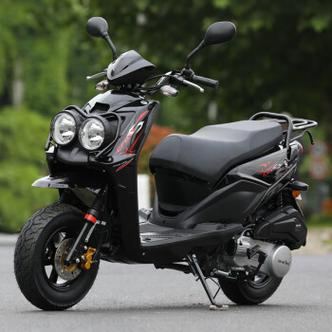摩托车: (11, 10, 320, 314)
